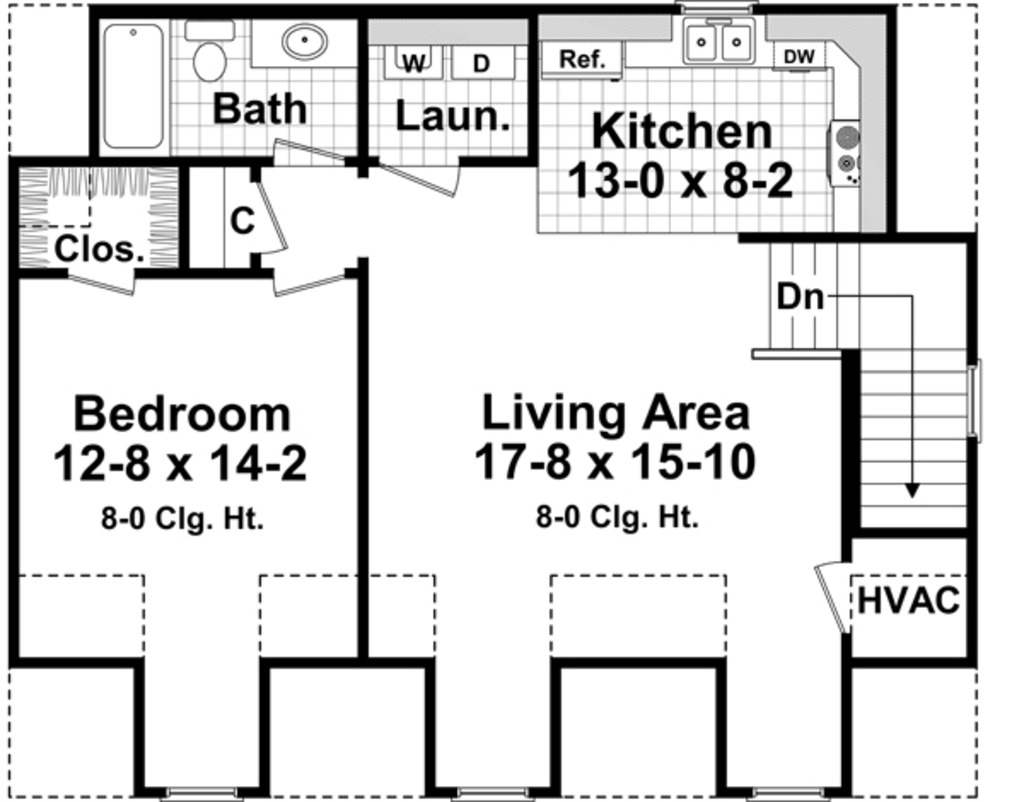door: (802, 554, 869, 635), (245, 176, 301, 260), (263, 265, 356, 299), (63, 267, 142, 302)
large_sink: (177, 13, 237, 86)
small_sink: (245, 19, 364, 69)
stairs: (756, 235, 969, 525)
tub: (97, 15, 177, 151)
twin_sink: (675, 2, 765, 70)
window: (964, 358, 987, 442), (746, 779, 827, 802), (454, 780, 535, 802), (163, 781, 238, 802)
